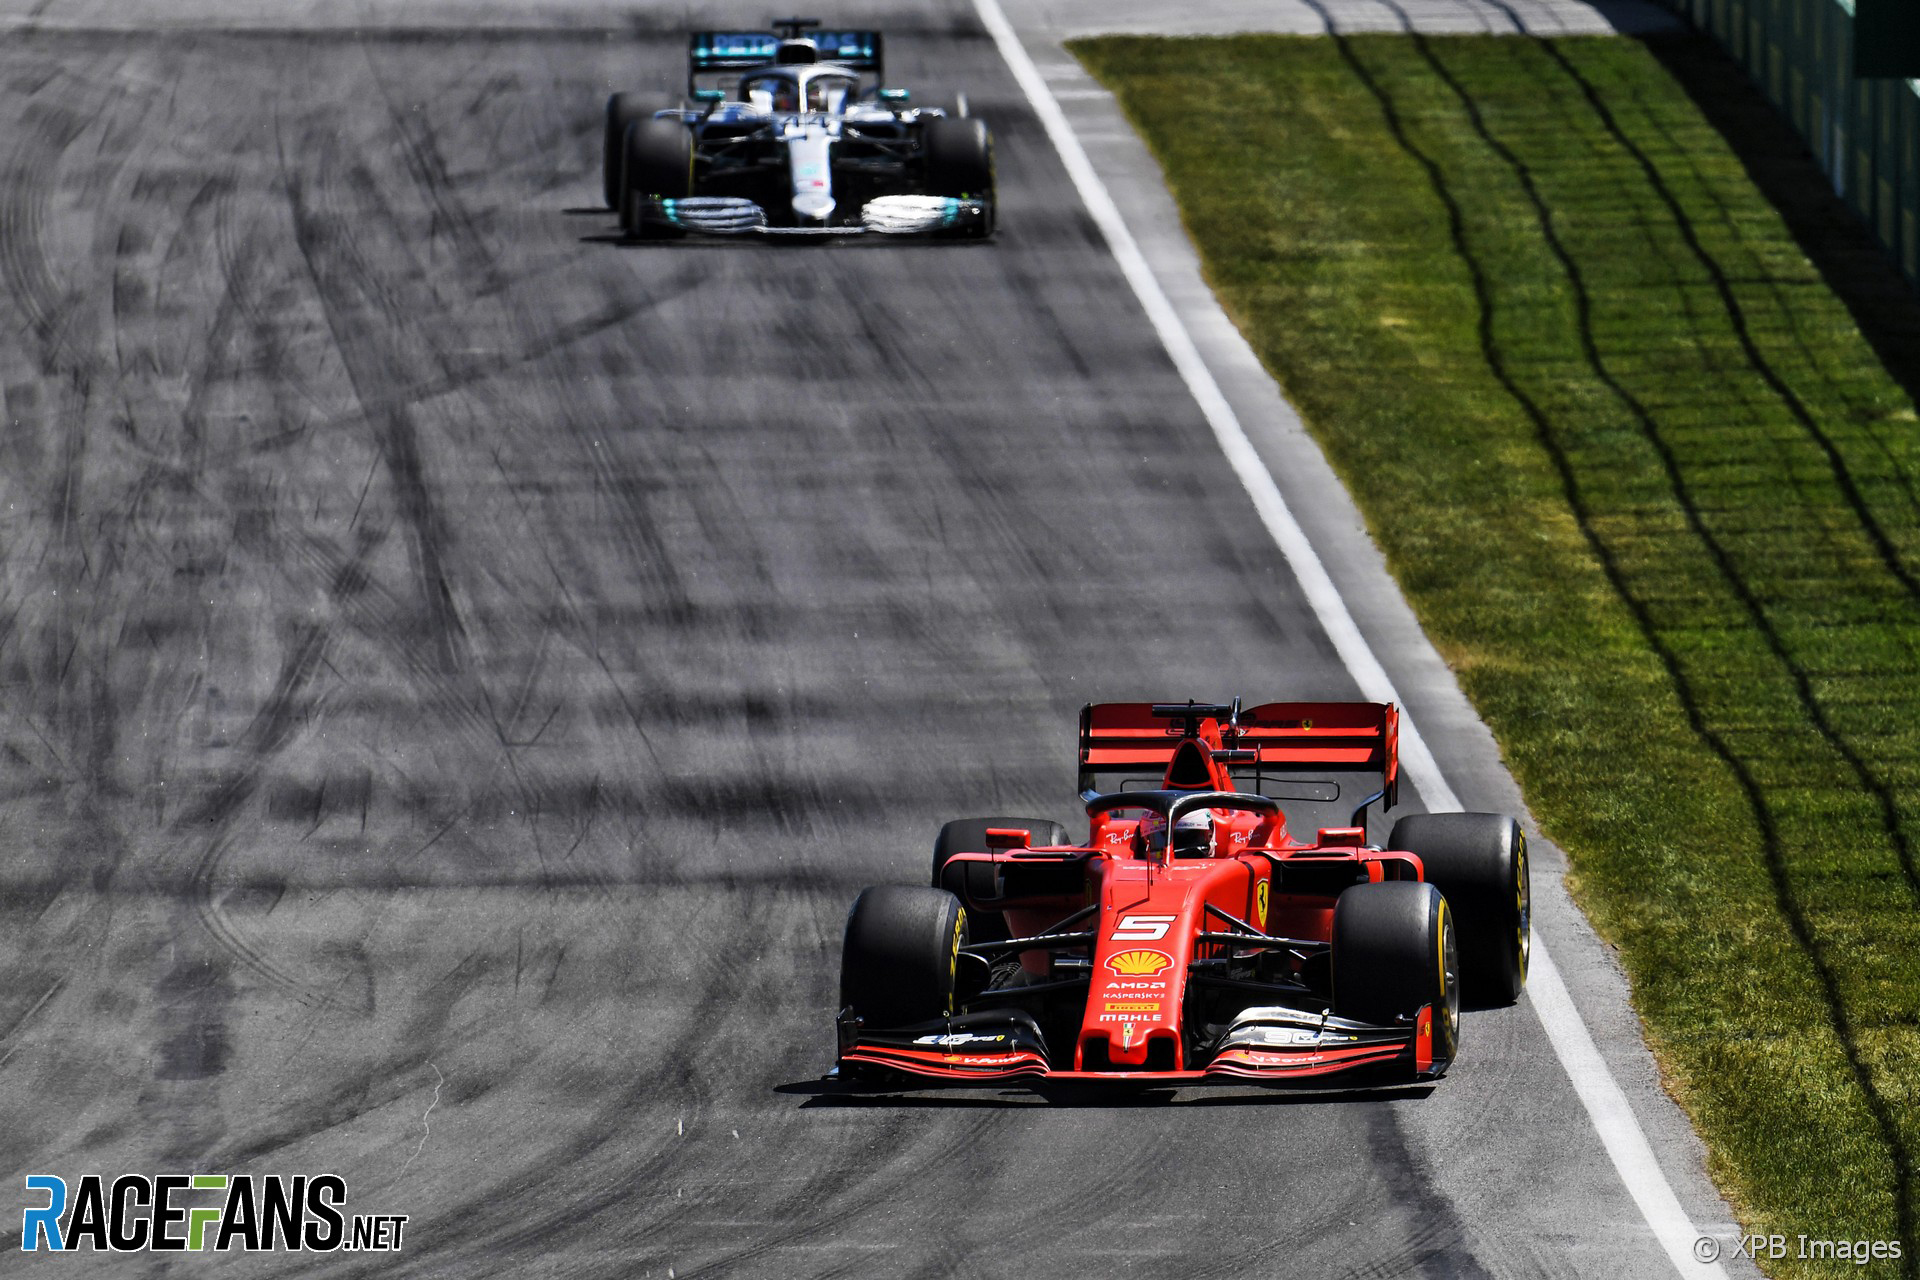F1 Car: (824, 689, 1553, 1126), (589, 11, 1016, 261)
